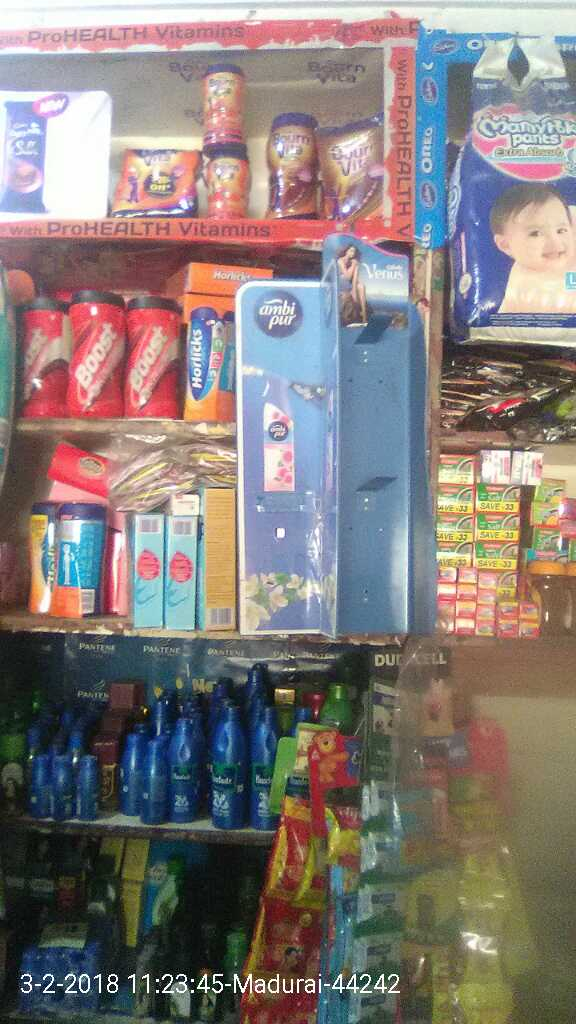reject: (237, 398, 314, 478)
